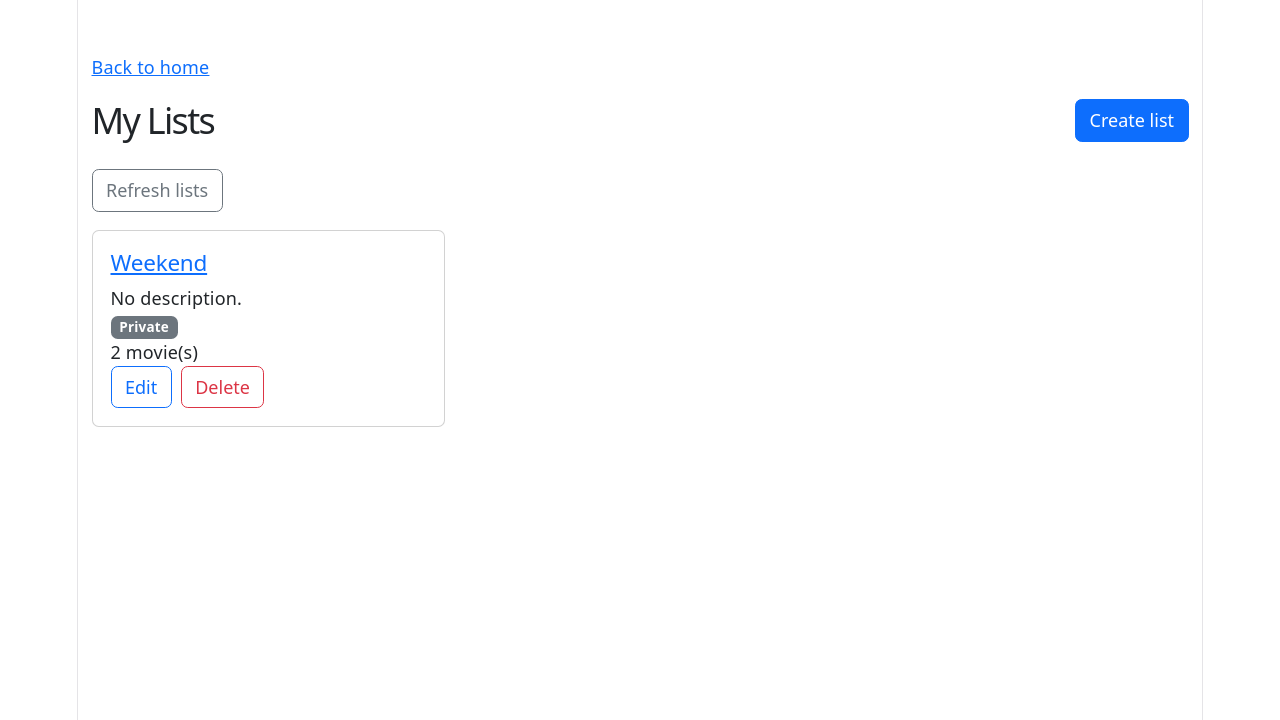
Test: prefills editing and persists visibility using the original string ID
The image size is (1280, 720).
Check: the element "Weekend" is shown, box [92,230,445,427]
Click the button "Edit" at (141, 387), box [110,366,172,408]
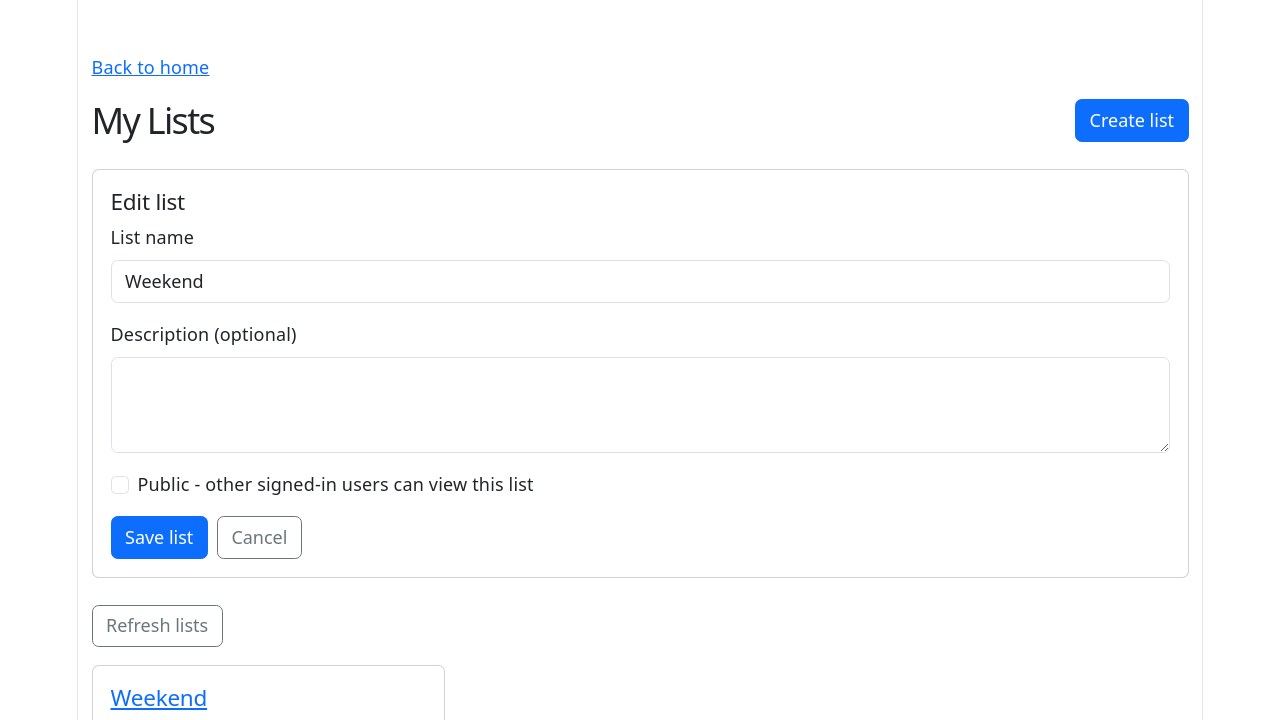
Check: the field labelled "List name" holds "Weekend", box [110,260,1170,303]
Click the checkbox at (120, 485), box [110,476,128,494]
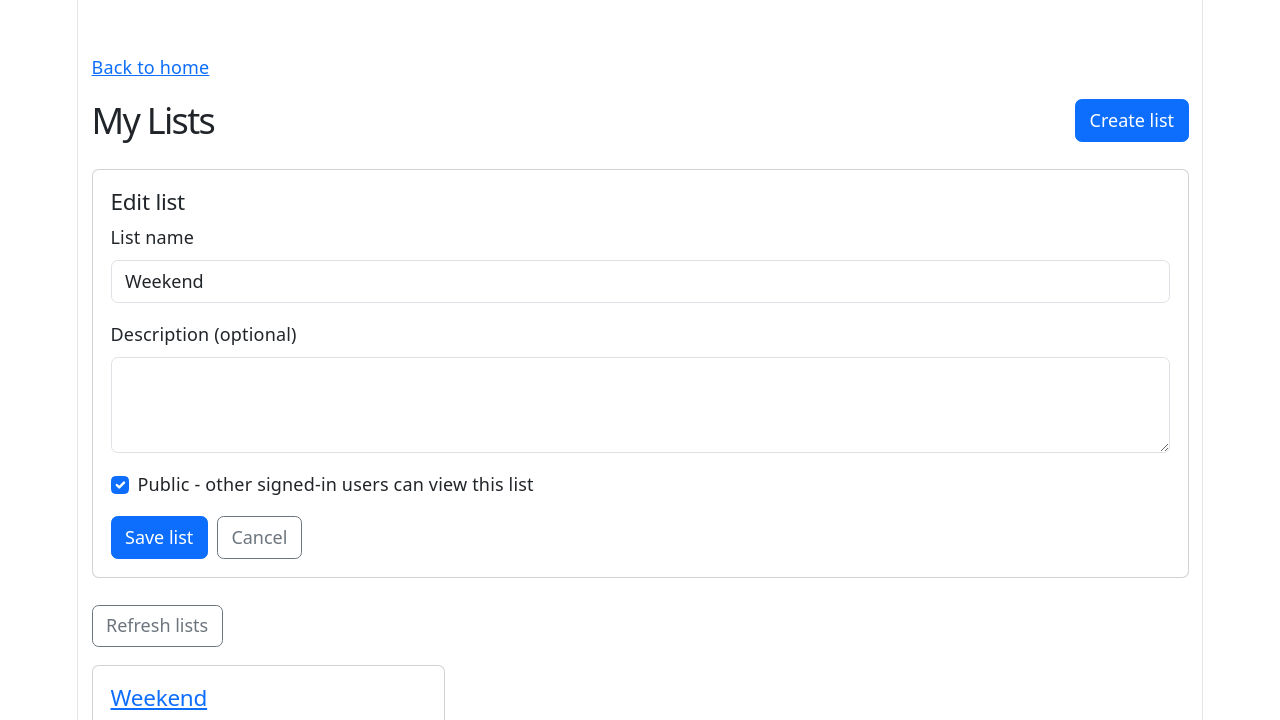
Click the button "Save list" at (159, 537), box [110,516,208,559]
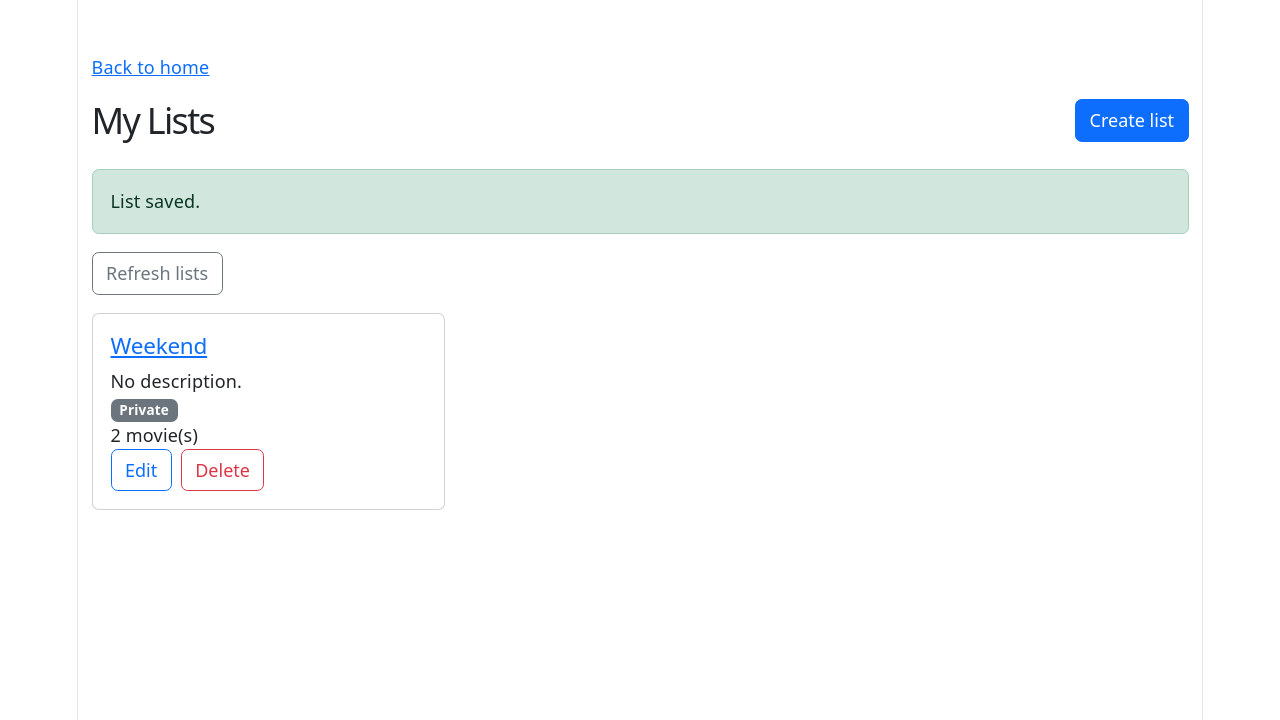
Check: the text "List saved." is shown, box [92,169,1188,234]
